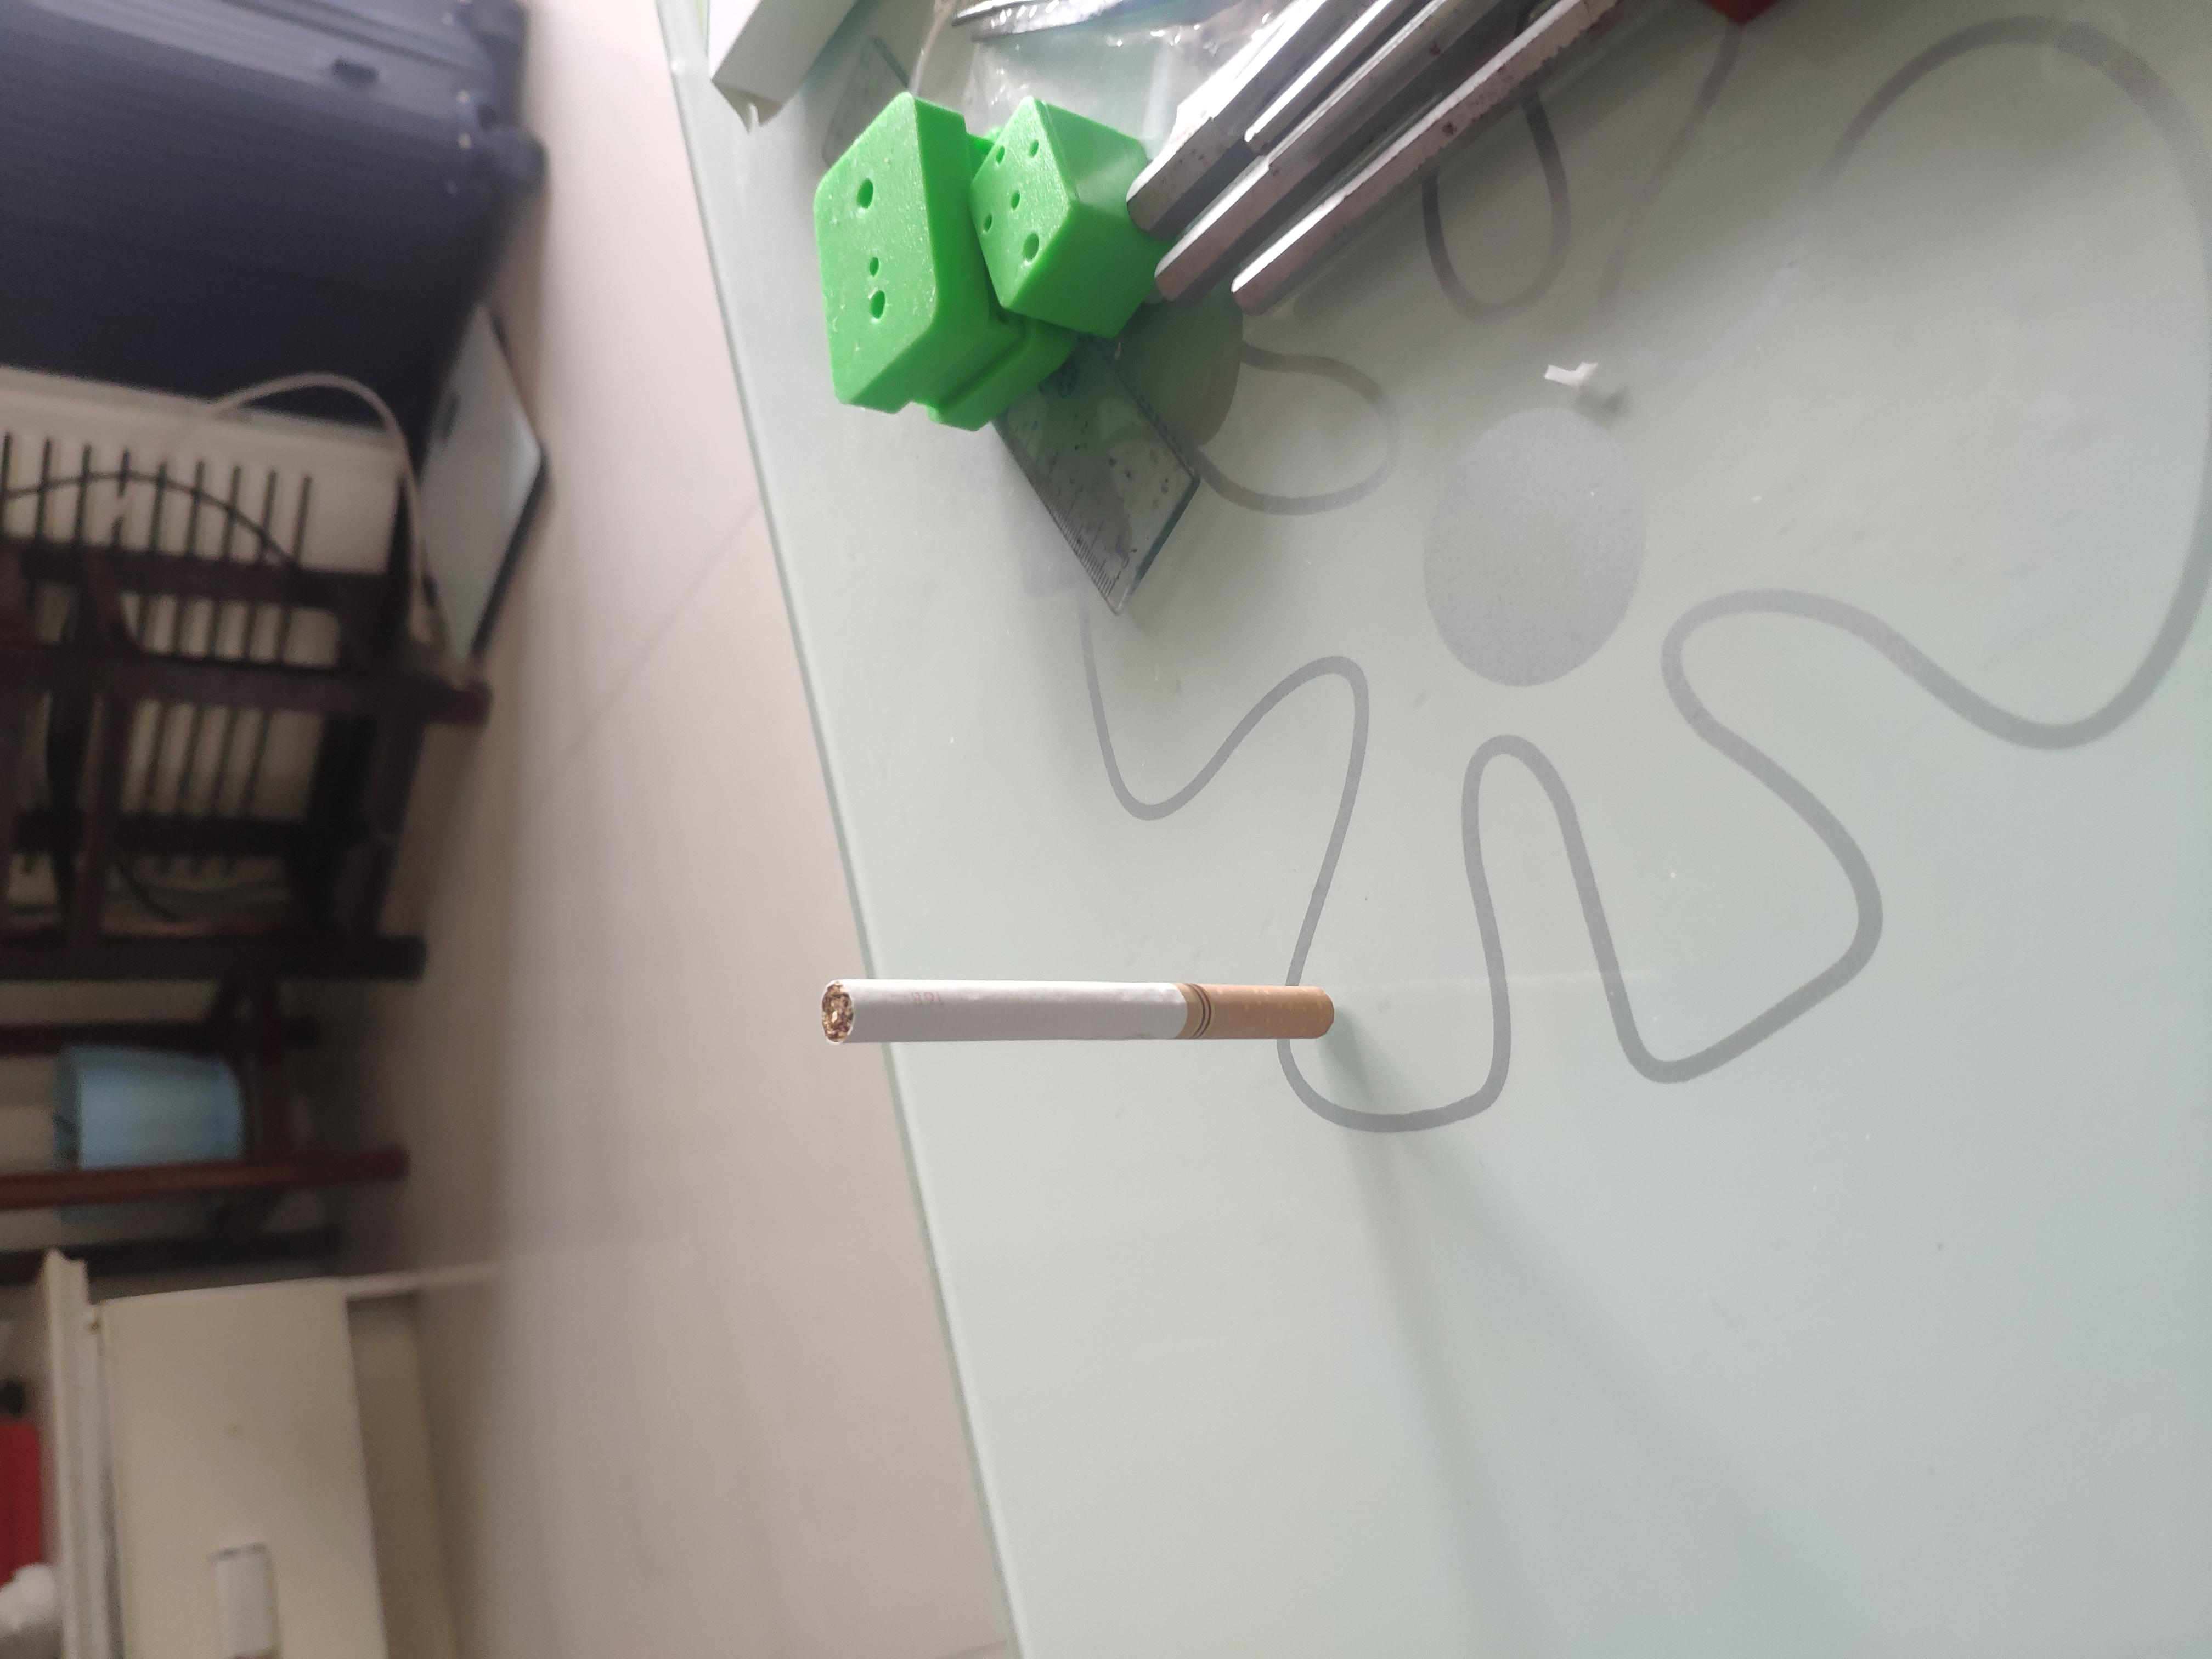smoke: (817, 615, 908, 1002)
